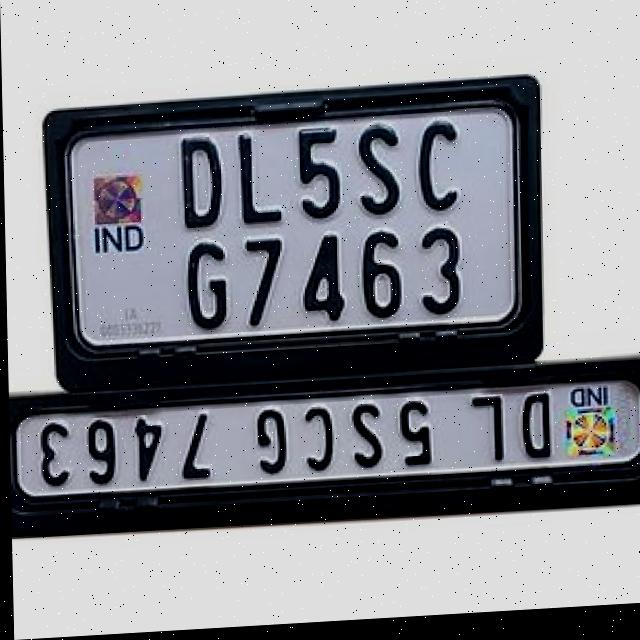plate: (44, 80, 546, 395), (7, 360, 640, 546)
